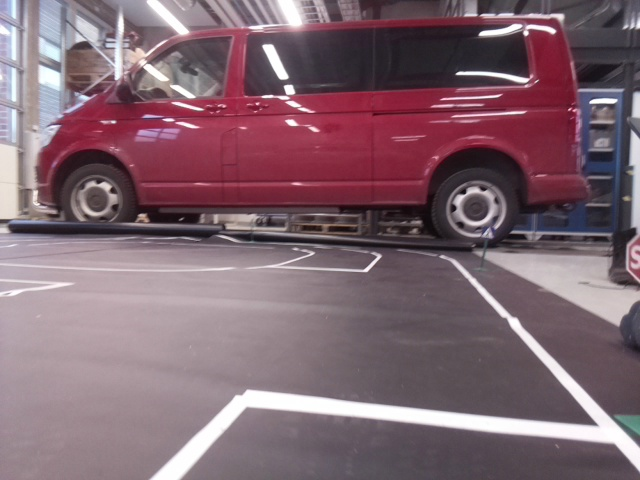Crosswalk: (483, 226, 494, 240)
